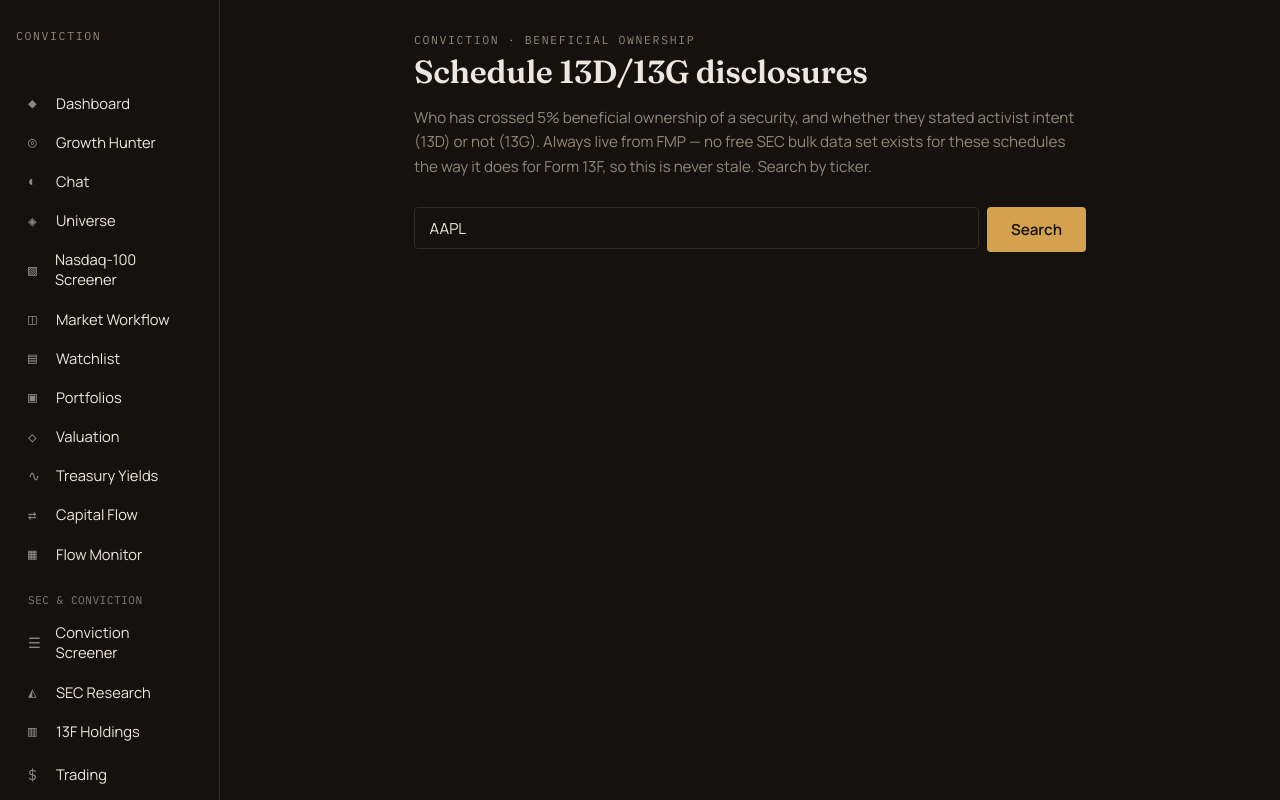
Test case: Beneficial Ownership page › shows the real error message for a 404 response rather than a generic one
Click the button "Search" at (1036, 229), box [987,207,1086,252]
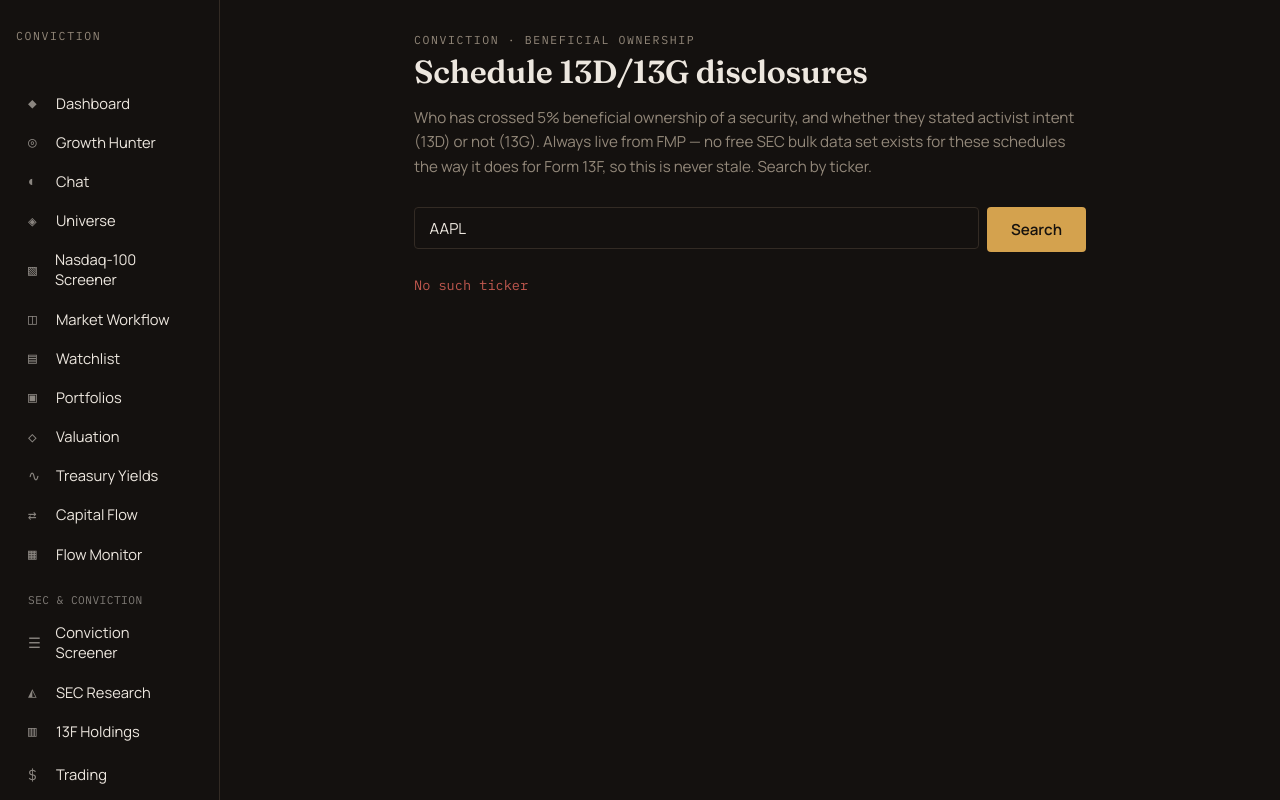
Result: the text "No such ticker" is shown at [414,276,528,294]
